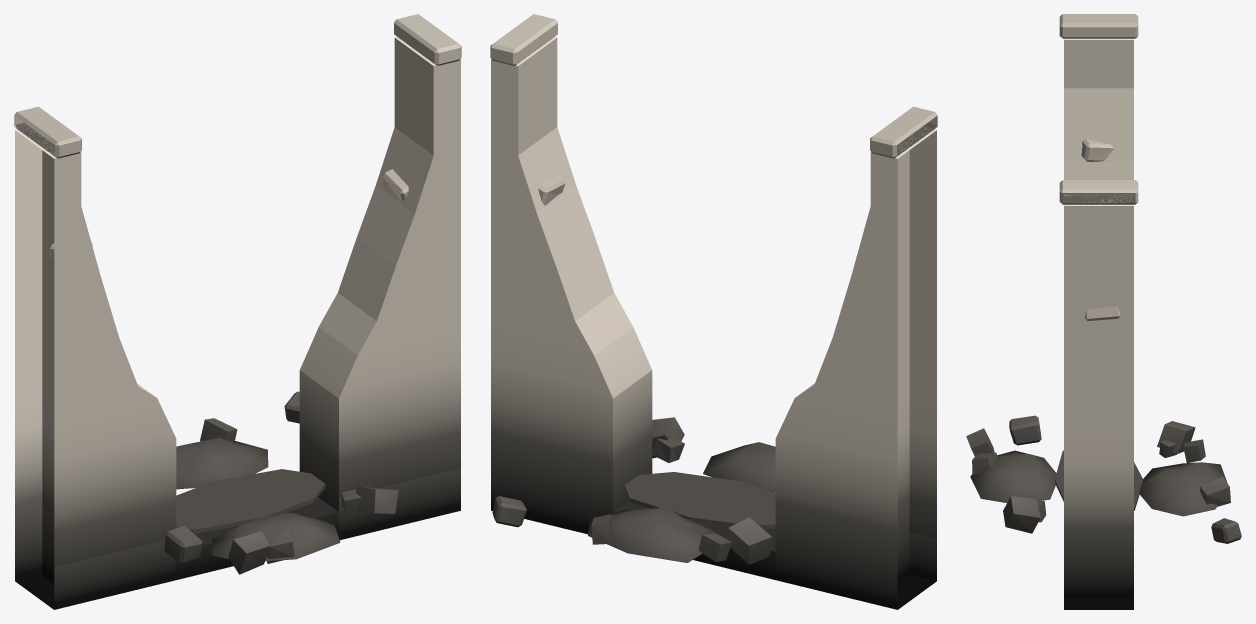
Rendered from SM_VKI_Wall_Dungeon_Breach_300_Full.fbx.
The picture shows the model from 3 angles, left to right: view 1: azimuth 30°, elevation 25°; view 2: azimuth 150°, elevation 25°; view 3: azimuth 270°, elevation 25°; orthographic projection. The views are drawn at different scales.
Parts seen in each view (by area): view 1: SM_VKI_Wall_Dungeon_Breach_300_Full.001; view 2: SM_VKI_Wall_Dungeon_Breach_300_Full.001; view 3: SM_VKI_Wall_Dungeon_Breach_300_Full.001.
Part boxes in pixels (bbox=[...]): SM_VKI_Wall_Dungeon_Breach_300_Full.001: bbox=[14, 14, 461, 609]; SM_VKI_Wall_Dungeon_Breach_300_Full.001: bbox=[490, 14, 937, 609]; SM_VKI_Wall_Dungeon_Breach_300_Full.001: bbox=[966, 14, 1241, 609].
Size of the model in its own units: 3 by 3.3 by 1.97.
